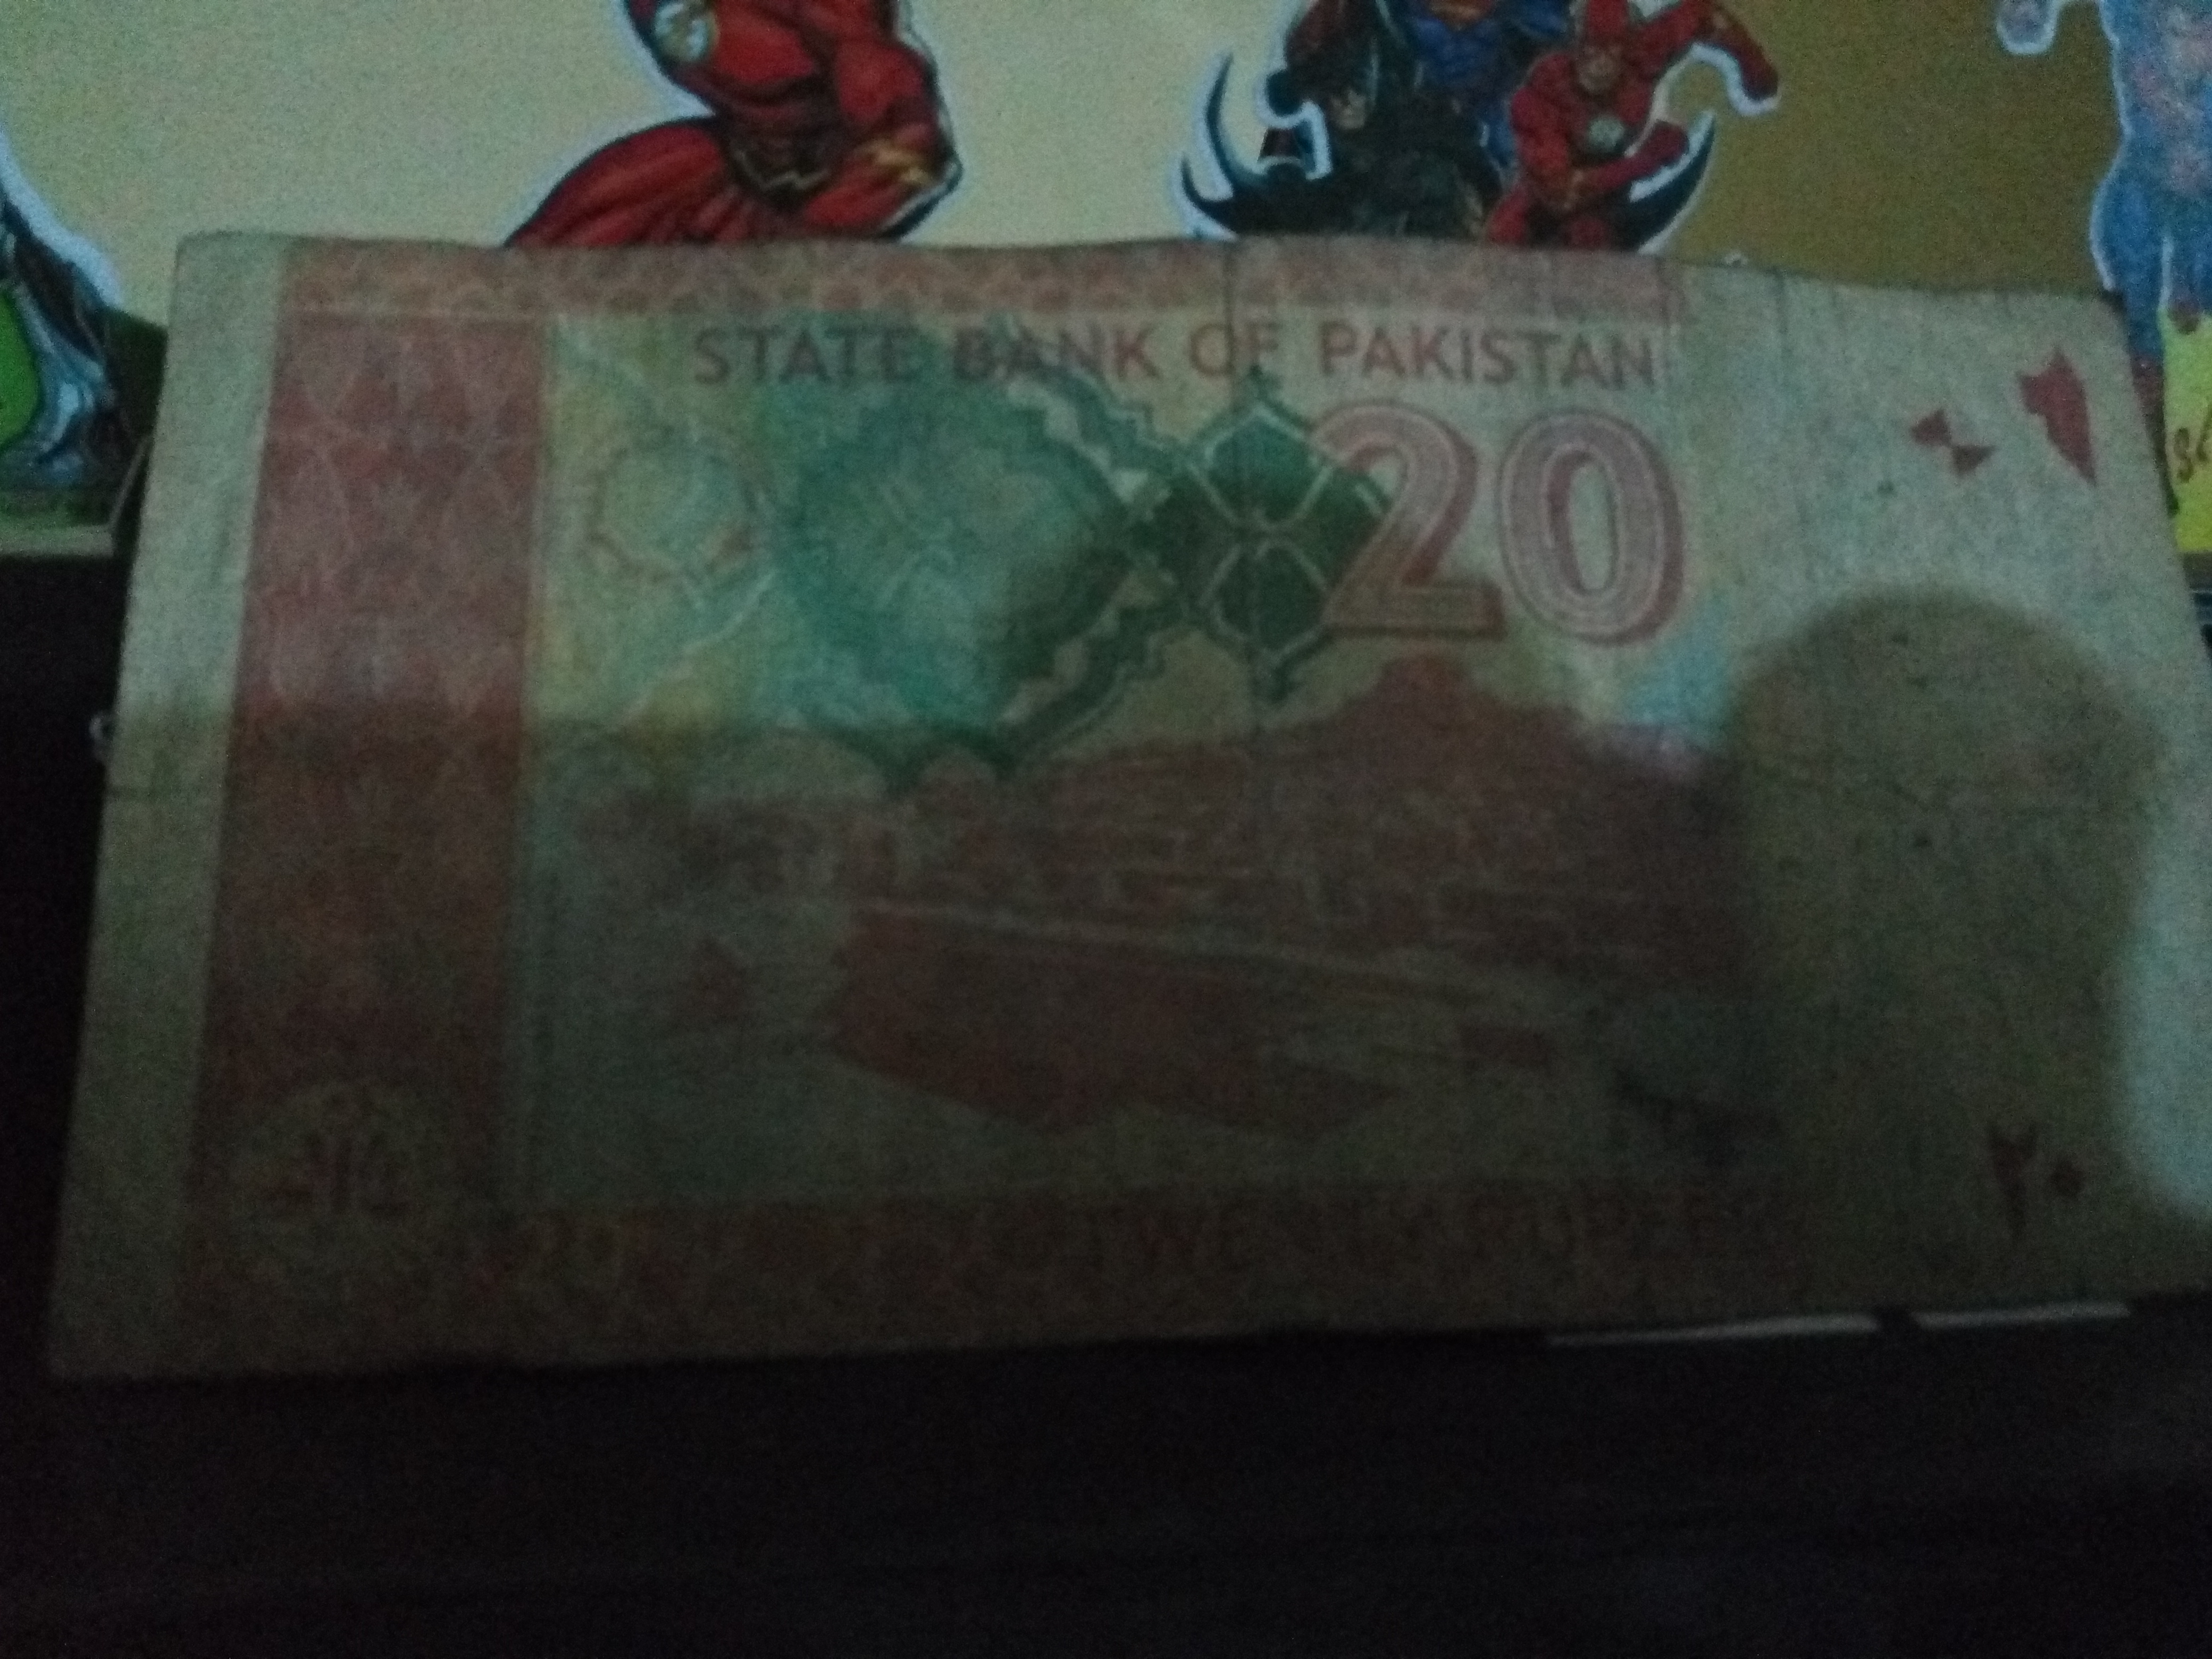20 rupee: (75, 145, 2212, 1504)
